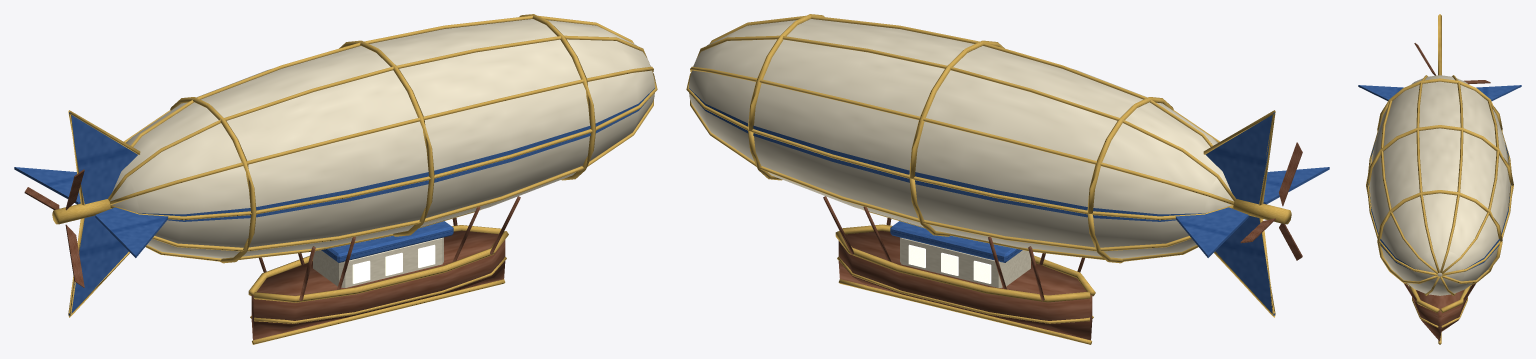
Rendered from fantasy-airship.glb.
3 renders of one model, left to right at view 1: azimuth 30°, elevation 25°; view 2: azimuth 150°, elevation 25°; view 3: azimuth 270°, elevation 25°, orthographic. The views are drawn at different scales.
Parts seen in each view (by area): view 1: fantasy-airship; view 2: fantasy-airship; view 3: fantasy-airship.
Part boxes in pixels (box(x1,y1,x2,y2)): fantasy-airship: box(14, 14, 657, 344); fantasy-airship: box(686, 14, 1329, 344); fantasy-airship: box(1358, 14, 1521, 344).
Size of the model in its own units: 8.77 by 3.94 by 3.1.
Materials: 5 (5 with a texture image).
